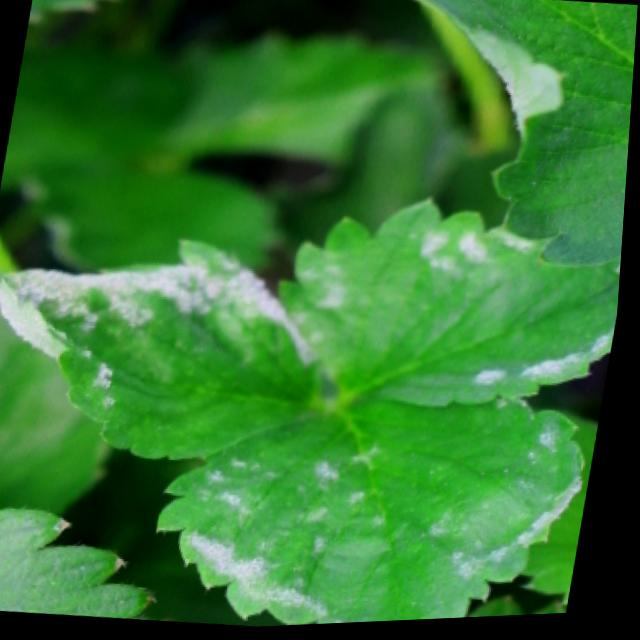Powdery Mildew Leaf: (162, 397, 592, 627), (0, 236, 326, 463), (282, 199, 624, 412), (410, 0, 638, 278)
